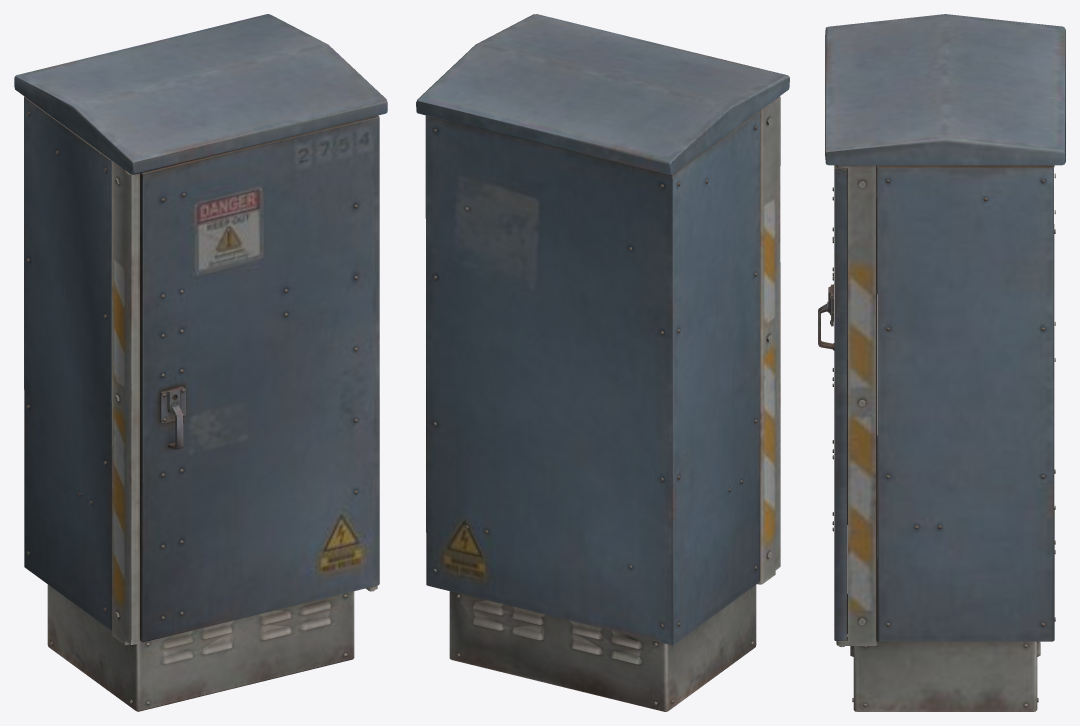
The model's file is utility_box_01.gltf.
3 views of the same model, side by side, from view 1: azimuth 30°, elevation 25°; view 2: azimuth 150°, elevation 25°; view 3: azimuth 270°, elevation 25° (orthographic).
Visible parts, largest first — view 1: utility_box_01_box; view 2: utility_box_01_box; view 3: utility_box_01_box.
Boxes of the visible parts, bbox=[...] form: utility_box_01_box: bbox=[14, 14, 387, 711]; utility_box_01_box: bbox=[416, 14, 789, 711]; utility_box_01_box: bbox=[818, 14, 1065, 711].
Size of the model in its own units: 0.52 by 1.12 by 0.432.
1 material, 1 textured.
